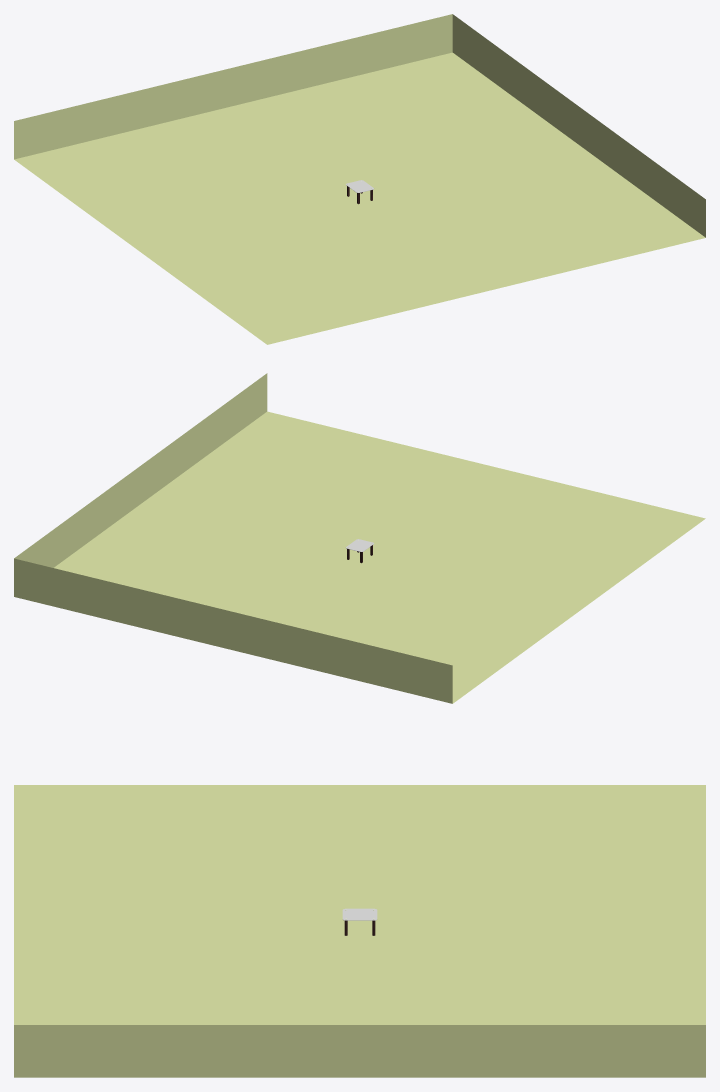
File: table.glb
3 views of the same model, one above another, from view 1: azimuth 30°, elevation 25°; view 2: azimuth 150°, elevation 25°; view 3: azimuth 270°, elevation 25° (orthographic). The views are drawn at different scales.
Visible parts, largest first — view 1: Base; view 2: Base; view 3: Base.
Boxes of the visible parts, <box> form: Base: <box>14,14,705,344</box>; Base: <box>14,373,705,703</box>; Base: <box>14,785,705,1077</box>.
Size of the model in its own units: 20 by 1.68 by 20.
5 materials, 1 textured.
